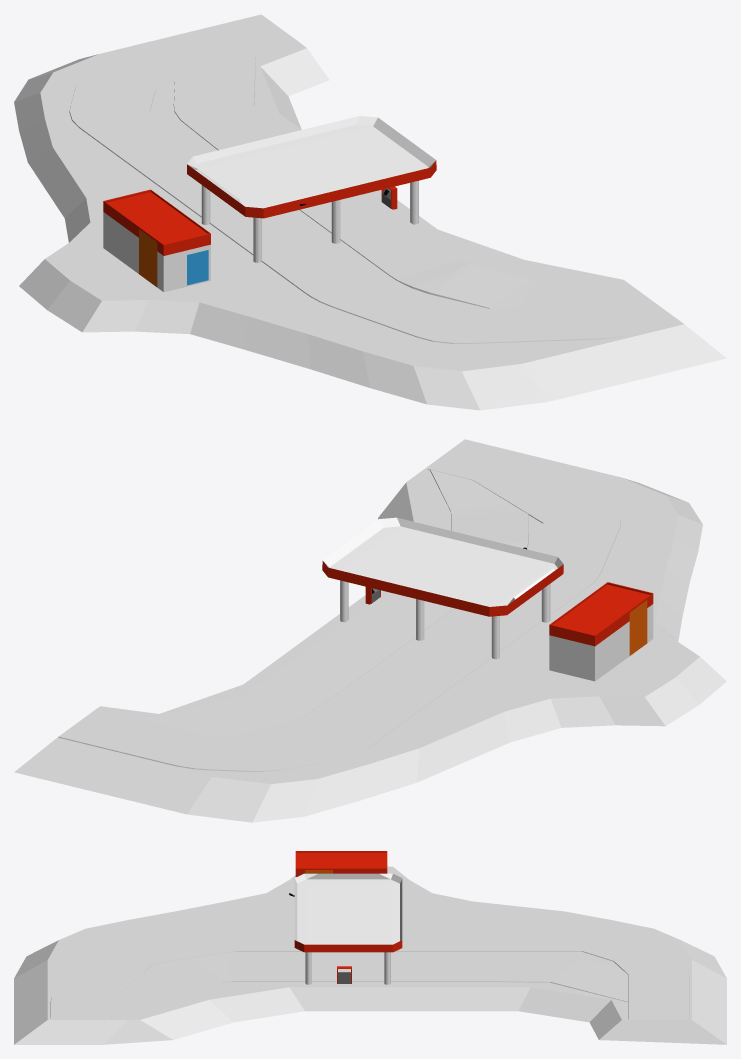
File: env.fbx
3 views of the same model, one above another, from view 1: azimuth 30°, elevation 25°; view 2: azimuth 150°, elevation 25°; view 3: azimuth 270°, elevation 25° (orthographic). The views are drawn at different scales.
Visible parts, largest first — view 1: Plane, Road.001, Road.002, Cube.002, Cube.004, Cylinder.001; view 2: Plane, Road.001, Road.002, Cube.002, Cube.004, Cylinder.001; view 3: Plane, Road.001, Road.002, Cube.002, Cube.004, Cylinder.001.
Part boxes in pixels (box(x1,y1,x2,y2)): Plane: box(14, 14, 726, 410); Road.001: box(69, 15, 678, 343); Road.002: box(173, 56, 634, 308); Cube.002: box(187, 116, 436, 218); Cube.004: box(103, 189, 210, 292); Cylinder.001: box(201, 180, 418, 262); Plane: box(14, 439, 726, 822); Road.001: box(58, 441, 621, 771); Road.002: box(143, 470, 528, 737); Cube.002: box(322, 517, 563, 616); Cube.004: box(549, 582, 653, 681); Cylinder.001: box(340, 580, 550, 659); Plane: box(14, 866, 726, 1044); Road.001: box(50, 925, 689, 1019); Road.002: box(111, 955, 627, 1017); Cube.002: box(294, 873, 402, 952); Cube.004: box(295, 851, 387, 877); Cylinder.001: box(305, 952, 390, 984).
Bounding box in the file's own units: 8218 × 1433 × 14483.
